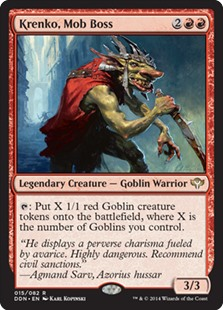artist: (47, 294, 88, 304)
cmc: (169, 15, 208, 32)
image: (18, 35, 205, 173)
name: (19, 17, 115, 31)
power: (182, 279, 192, 294)
set: (188, 175, 206, 192)
text: (18, 200, 204, 280)
toughness: (193, 278, 202, 294)
type: (19, 176, 189, 190)
